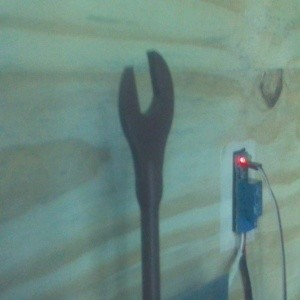spanner: (117, 49, 176, 300)
